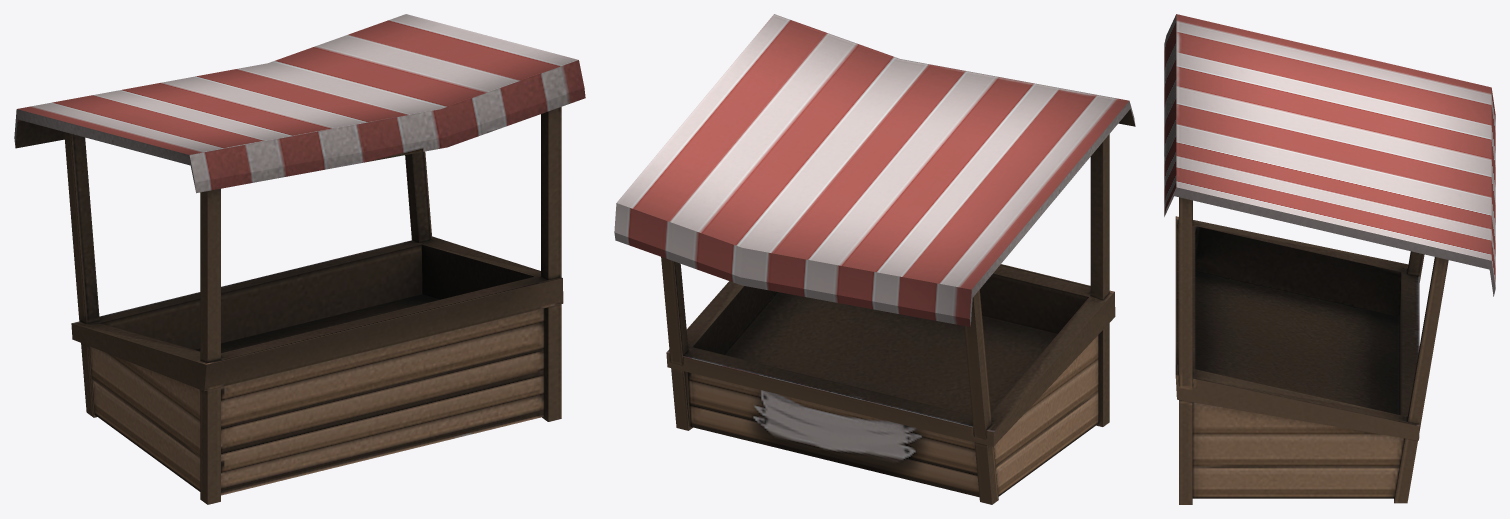
Rendered from Prop_MarketStand.FBX.
3 renders of one model, left to right at view 1: azimuth 30°, elevation 25°; view 2: azimuth 150°, elevation 25°; view 3: azimuth 270°, elevation 25°, orthographic. The views are drawn at different scales.
Parts seen in each view (by area): view 1: Box020; view 2: Box020; view 3: Box020.
Boxes of the visible parts, box(x1,y1,x2,y2) form: Box020: box(14, 14, 585, 504); Box020: box(614, 14, 1135, 504); Box020: box(1164, 14, 1495, 504).
Size of the model in its own units: 306 by 267 by 247.
